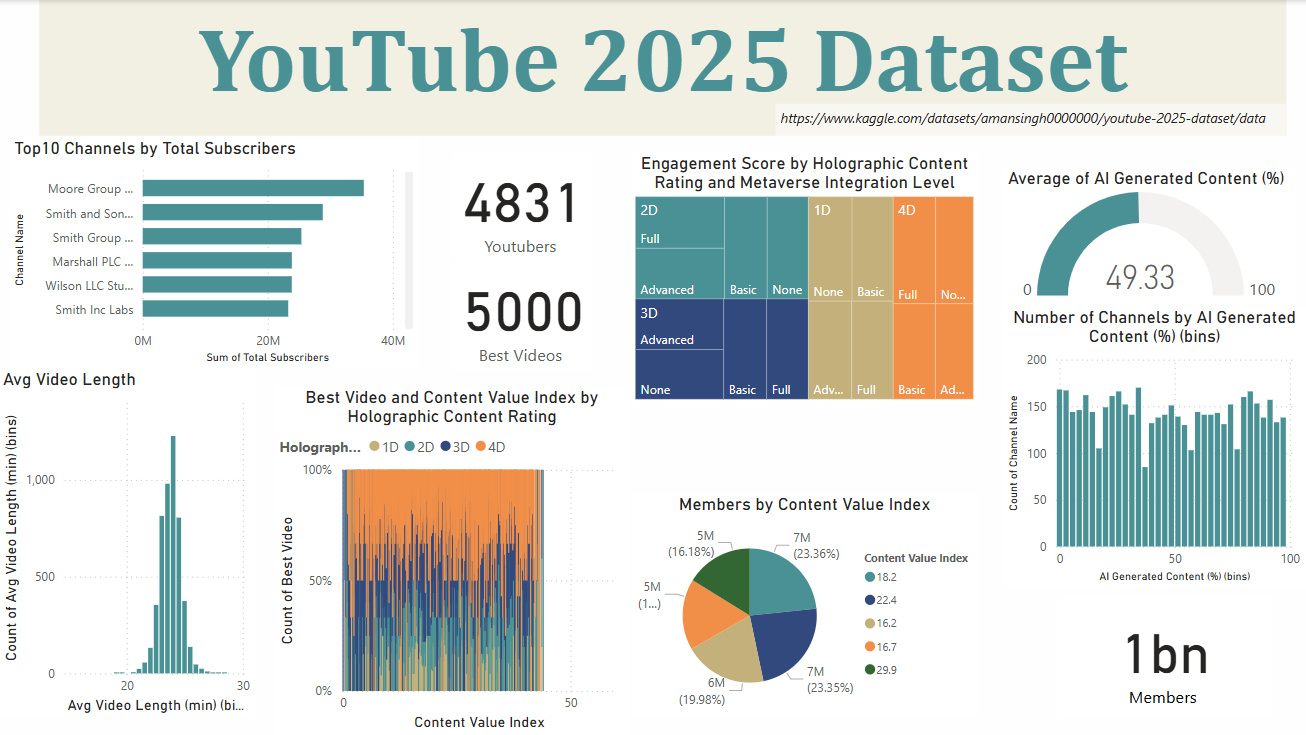

This screenshot's page, from the dashboard's own definition file:
{"tool":"powerbi","page":{"name":"Page 1","canvas":[1280,720],"ordinal":0},"visuals":[{"type":"textbox","box":[39.8,0,1219.9,133.1],"z":0},{"type":"card","fields":{"Values":["CountNonNull(youtube_2025_dataset_202504061614.Best Video)"]},"box":[444.7,255.1,136.8,106.9],"z":1000},{"type":"card","fields":{"Values":["Count(youtube_2025_dataset_202504061614.Youtuber Name)"]},"box":[444.7,149.7,136.8,105.5],"z":2000},{"type":"barChart","title":"Top10 Channels by Total Subscribers ","fields":{"Category":["youtube_2025_dataset_202504061614.Channel Name"],"Y":["Sum(youtube_2025_dataset_202504061614.Total Subscribers)"]},"box":[11.4,134,400.5,226.6],"z":3000},{"type":"gauge","title":"Average of AI Generated Content (%)","fields":{"Y":["Avg(youtube_2025_dataset_202504061614.AI Generated Content (%))"],"MinValue":["Min(youtube_2025_dataset_202504061614.AI Generated Content (%))1"],"MaxValue":["Max(youtube_2025_dataset_202504061614.AI Generated Content (%))2"]},"box":[983.5,163.9,286.5,135.4],"z":4000},{"type":"lineStackedColumnComboChart","title":"Avg Video Length ","fields":{"Category":["youtube_2025_dataset_202504061614.Avg Video Length (min) (bins)"],"Y":["CountNonNull(youtube_2025_dataset_202504061614.Avg Video Length (min) (bins))"]},"box":[0,360.6,252.3,342.1],"z":5000},{"type":"lineClusteredColumnComboChart","title":"Number of Channels by AI Generated Content (%) (bins)","fields":{"Category":["youtube_2025_dataset_202504061614.AI Generated Content (%) (bins)"],"Y":["Count(youtube_2025_dataset_202504061614.Channel Name)"]},"box":[983.5,299.3,296.5,275.1],"z":6000},{"type":"treemap","title":"Engagement Score by Holographic Content Rating and Metaverse Integration Level","fields":{"Group":["youtube_2025_dataset_202504061614.Holographic Content Rating"],"Values":["Sum(youtube_2025_dataset_202504061614.Engagement Score)"],"Details":["youtube_2025_dataset_202504061614.Metaverse Integration Level"]},"box":[618.6,149.7,340.7,246.6],"z":7000},{"type":"hundredPercentStackedColumnChart","title":"Best Video and Content Value Index by Holographic Content Rating","fields":{"Y":["Count(youtube_2025_dataset_202504061614.Best Video)"],"Series":["youtube_2025_dataset_202504061614.Holographic Content Rating"],"Category":["youtube_2025_dataset_202504061614.Content Value Index"]},"box":[270.8,377.7,347.8,342.1],"z":8000},{"type":"pieChart","title":"Members by Content Value Index","fields":{"Category":["youtube_2025_dataset_202504061614.Content Value Index"],"Y":["Sum(youtube_2025_dataset_202504061614.Members Count)"]},"box":[618.6,483.2,340.7,219.5],"z":9000},{"type":"card","fields":{"Values":["Sum(youtube_2025_dataset_202504061614.Members Count)"]},"box":[1036.3,583,212.4,119.7],"z":10000},{"type":"textbox","box":[761.2,101.2,498.9,32.8],"z":10001}]}

Visuals, with their boxes in screenshot pixels (x1, y1, x2, y2), scaled from the page's 1280x720 canvas onto the 1306x735 screenshot:
textbox: locate(41, 0, 1285, 136)
card - CountNonNull(youtube_2025_dataset_202504061614.Best Video): locate(454, 260, 593, 370)
card - Count(youtube_2025_dataset_202504061614.Youtuber Name): locate(454, 153, 593, 261)
"Top10 Channels by Total Subscribers " barChart: locate(12, 137, 420, 368)
"Average of AI Generated Content (%)" gauge: locate(1003, 167, 1296, 306)
"Avg Video Length " lineStackedColumnComboChart: locate(0, 368, 257, 717)
"Number of Channels by AI Generated Content (%) (bins)" lineClusteredColumnComboChart: locate(1003, 306, 1305, 586)
"Engagement Score by Holographic Content Rating and Metaverse Integration Level" treemap: locate(631, 153, 979, 405)
"Best Video and Content Value Index by Holographic Content Rating" hundredPercentStackedColumnChart: locate(276, 386, 631, 734)
"Members by Content Value Index" pieChart: locate(631, 493, 979, 717)
card - Sum(youtube_2025_dataset_202504061614.Members Count): locate(1057, 595, 1274, 717)
textbox: locate(777, 103, 1286, 137)
